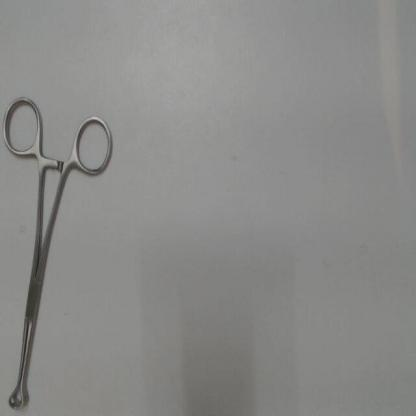Babcock Tissue Forceps: (0, 90, 118, 414)
